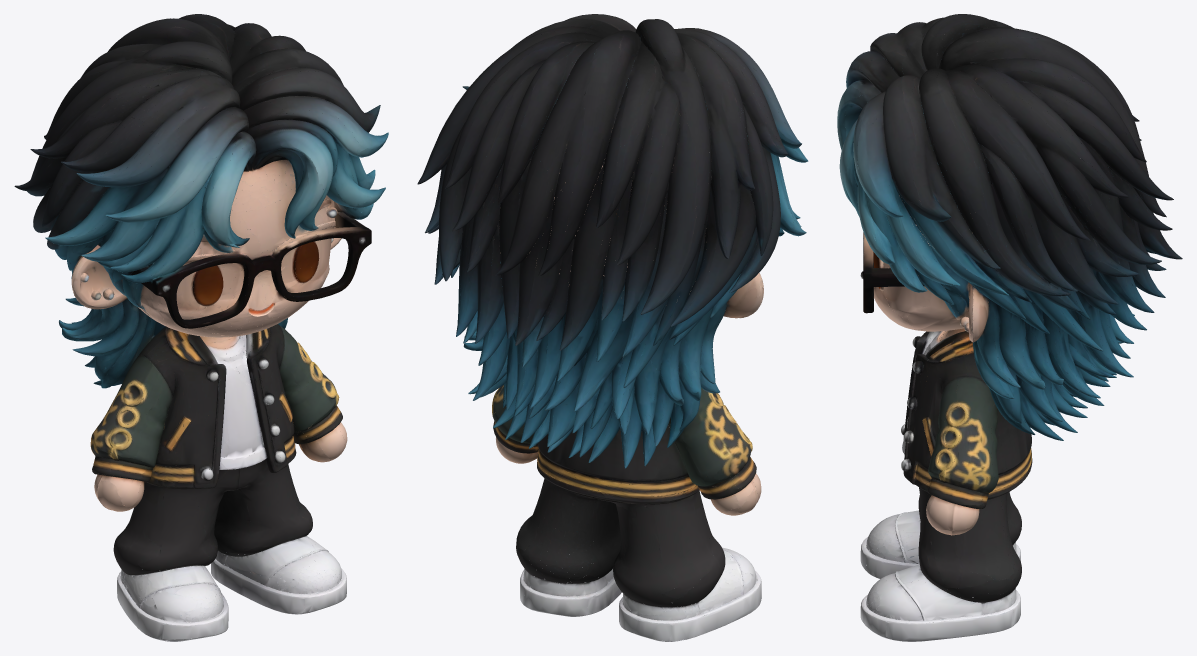
Rendered from clerk-optimized.glb.
3 renders of one model, left to right at view 1: azimuth 30°, elevation 25°; view 2: azimuth 150°, elevation 25°; view 3: azimuth 270°, elevation 25°, orthographic. The views are drawn at different scales.
Parts seen in each view (by area): view 1: Clerk_ChenZhixi_Textured; view 2: Clerk_ChenZhixi_Textured; view 3: Clerk_ChenZhixi_Textured.
Part boxes in pixels (box(x1,y1,x2,y2)): Clerk_ChenZhixi_Textured: box(14, 14, 388, 641); Clerk_ChenZhixi_Textured: box(417, 14, 808, 641); Clerk_ChenZhixi_Textured: box(837, 14, 1182, 641).
Size of the model in its own units: 1.25 by 2 by 1.11.
Materials: 1 (1 with a texture image).
